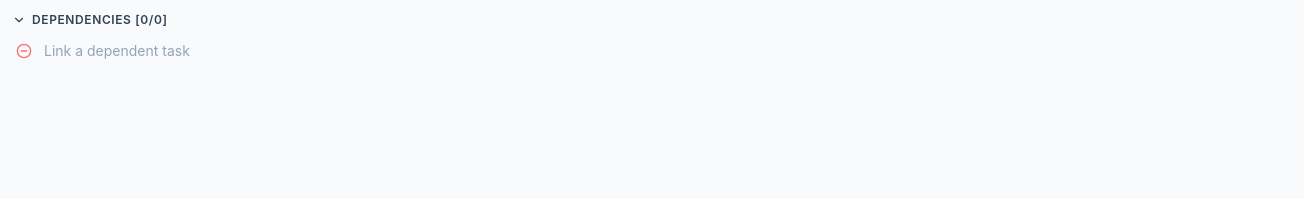
TaskDependencies › linking a task › moves the highlight with the arrow keys
Click the dropdown.
click(668, 51)  # box [44,39,1292,63]
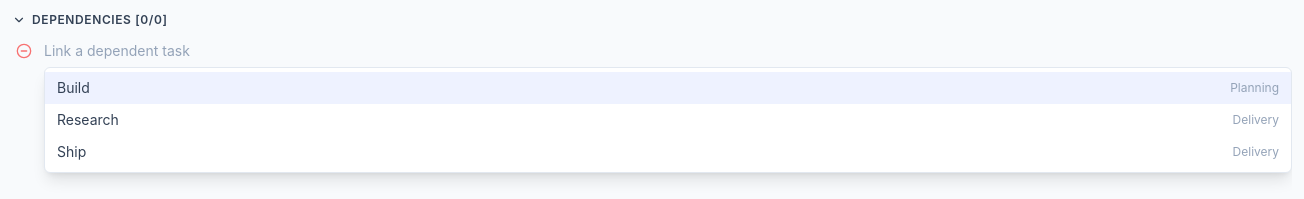
Press Arrowdown Enter
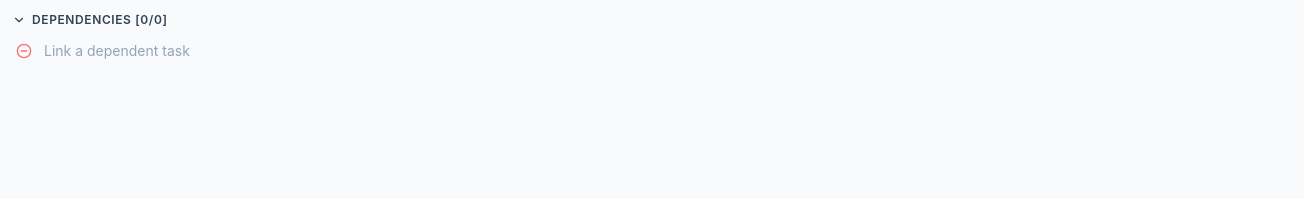
Result: the list is gone
